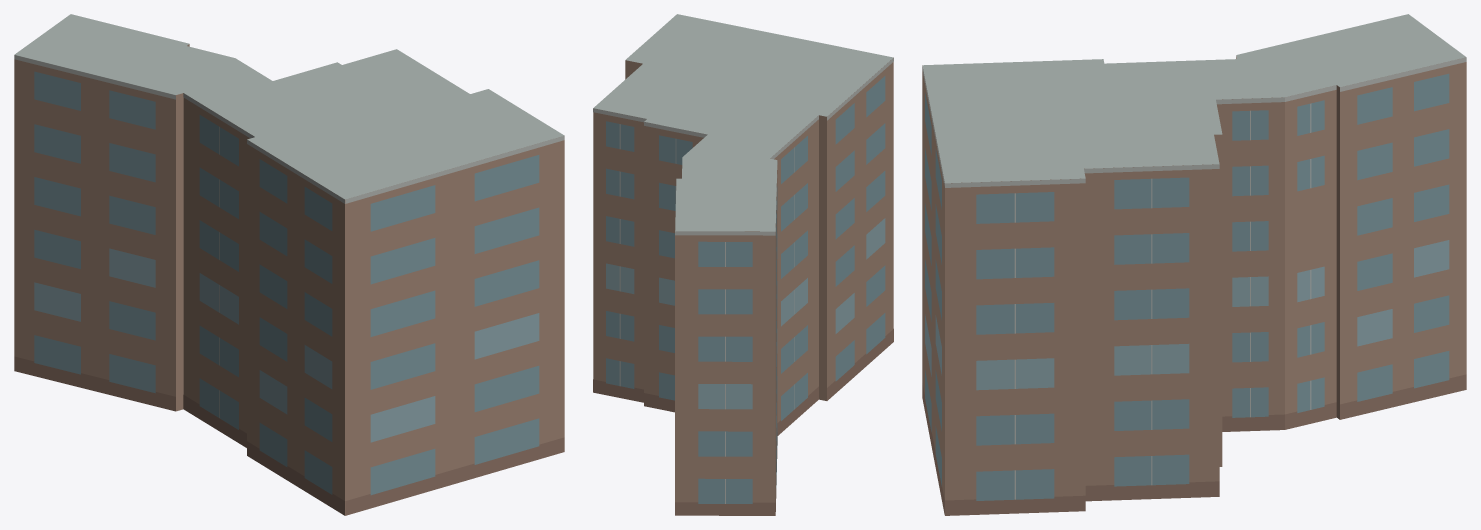
The model's file is survey-upis-32927547.glb.
3 views of the same model, side by side, from view 1: azimuth 30°, elevation 25°; view 2: azimuth 150°, elevation 25°; view 3: azimuth 270°, elevation 25° (orthographic). The views are drawn at different scales.
Parts seen in each view (by area): view 1: survey-upis-32927547.tmp; view 2: survey-upis-32927547.tmp; view 3: survey-upis-32927547.tmp.
Boxes of the visible parts, x1,y1,x2,y2 form: survey-upis-32927547.tmp: (14, 14, 564, 515); survey-upis-32927547.tmp: (593, 14, 893, 515); survey-upis-32927547.tmp: (922, 14, 1466, 515).
Size of the model in its own units: 18.9 by 17.3 by 25.66.
